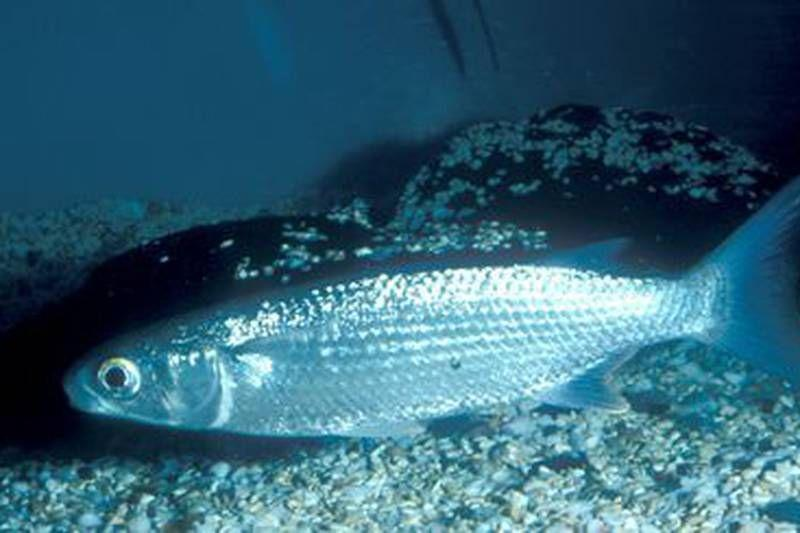Mullet: (61, 183, 800, 456)
